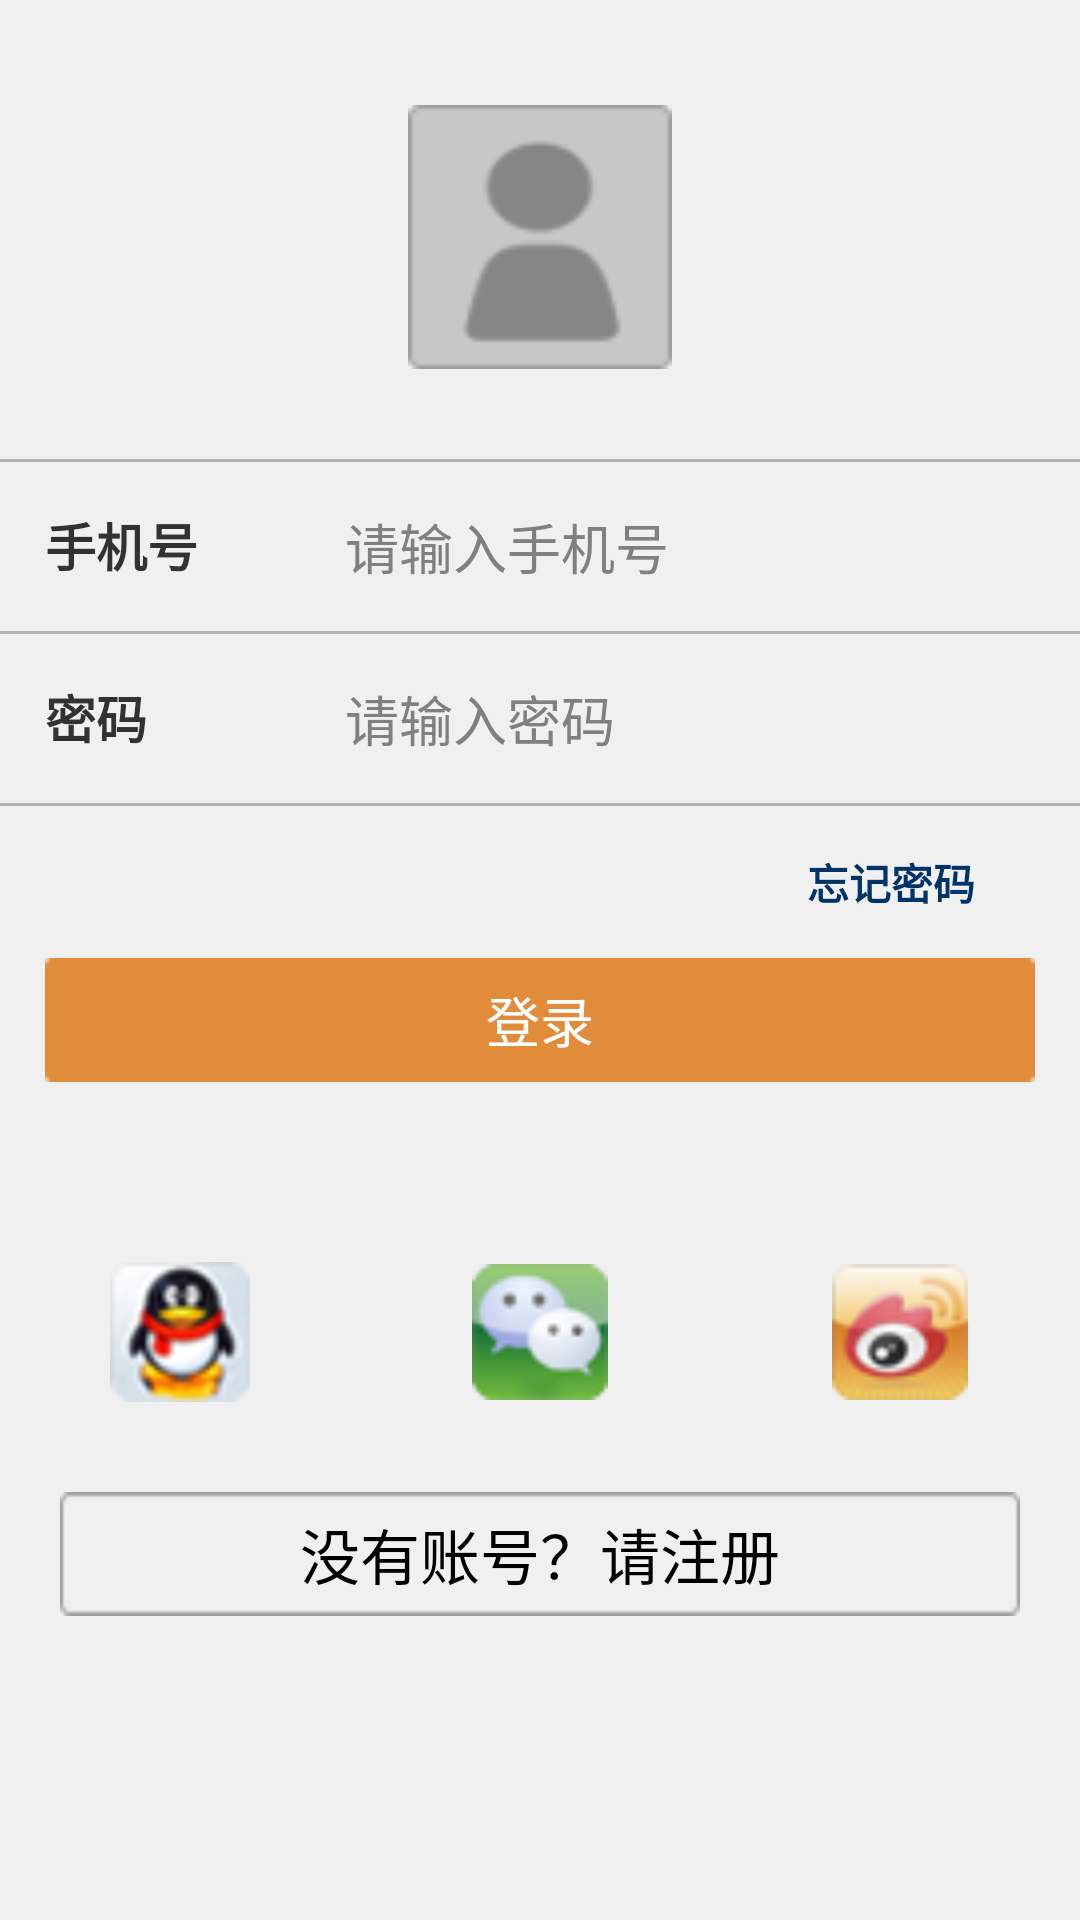

Where icons sit on this 1080w x 1920h app screen, as box(x1, y1, x2, y2):
head: box(408, 105, 672, 369)
